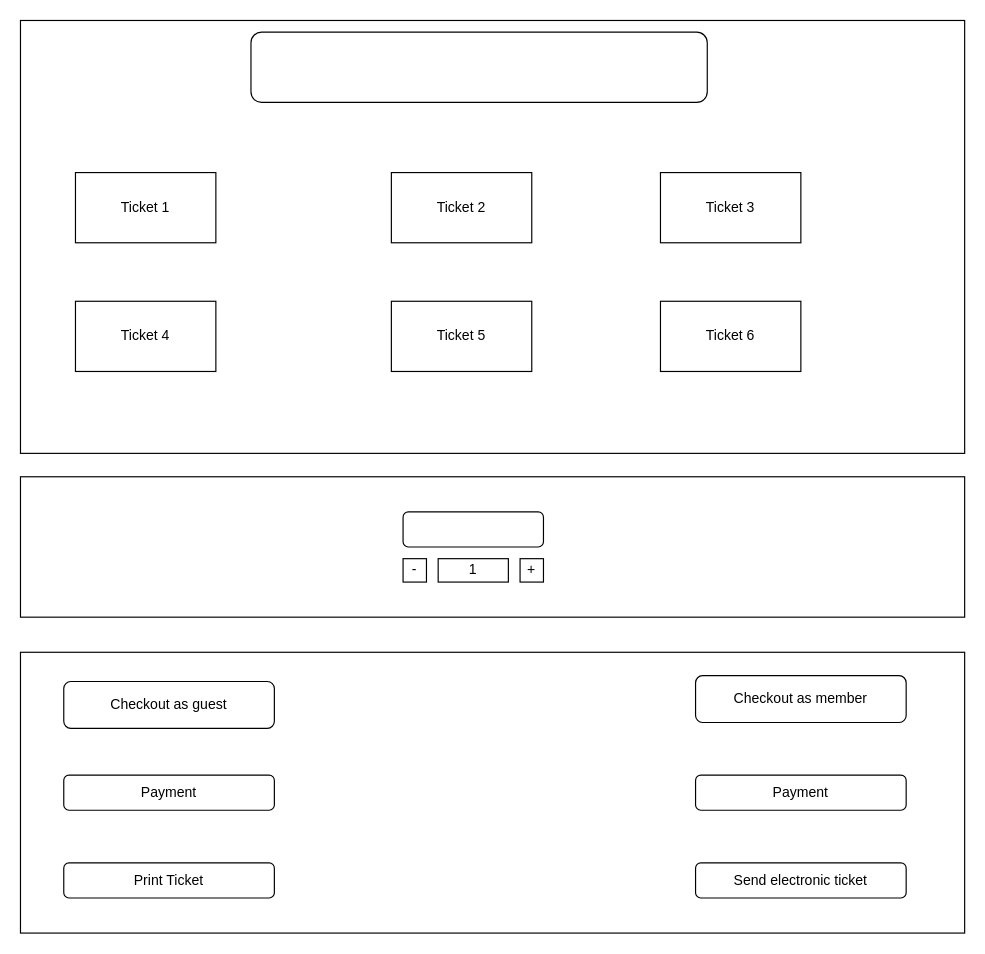
This 985x954 diagram has some shape labels left out. The centre of each missing label's shape, as x and y in pixels:
Please select your ticket: (x=478, y=66)
Select Quantity: (x=472, y=529)
